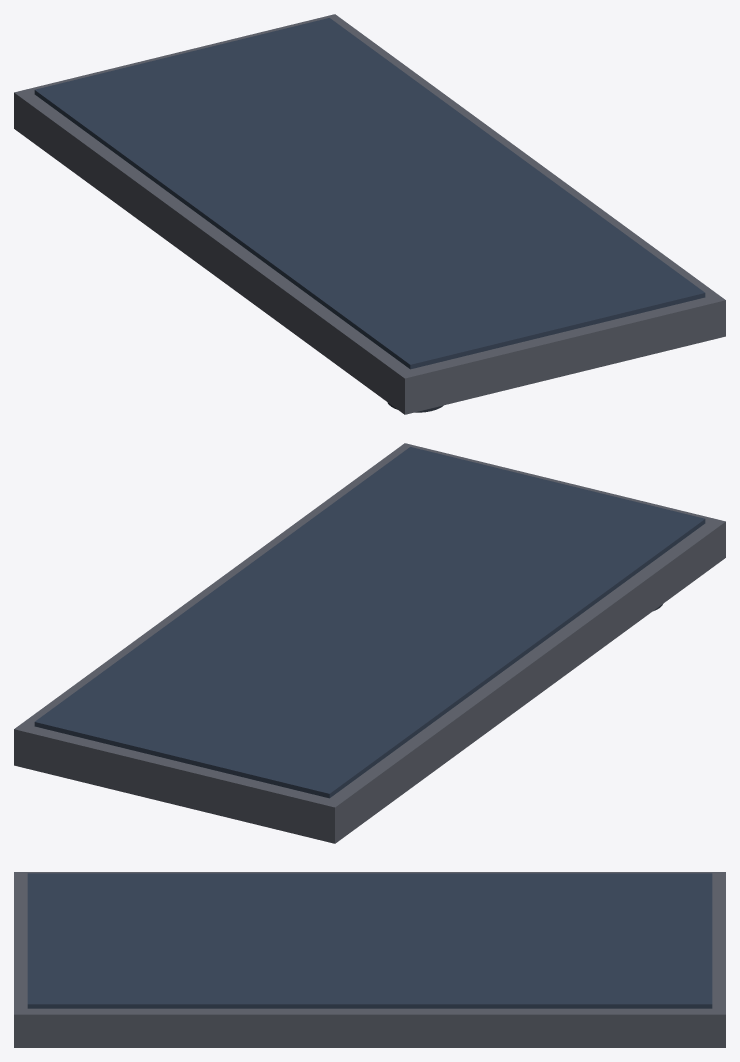
The model's file is smartphone.glb.
The picture shows the model from 3 angles, top to bottom: view 1: azimuth 30°, elevation 25°; view 2: azimuth 150°, elevation 25°; view 3: azimuth 270°, elevation 25°; orthographic projection. The views are drawn at different scales.
Visible parts, largest first — view 1: geometry_1, geometry_0; view 2: geometry_1, geometry_0; view 3: geometry_1, geometry_0.
Boxes of the visible parts, x1,y1,x2,y2 form: geometry_1: (34,18,705,369); geometry_0: (14,14,725,414); geometry_1: (34,447,705,798); geometry_0: (14,443,725,843); geometry_1: (27,873,712,1008); geometry_0: (14,872,725,1047).
Size of the model in its own units: 0.074 by 0.0151 by 0.156.
